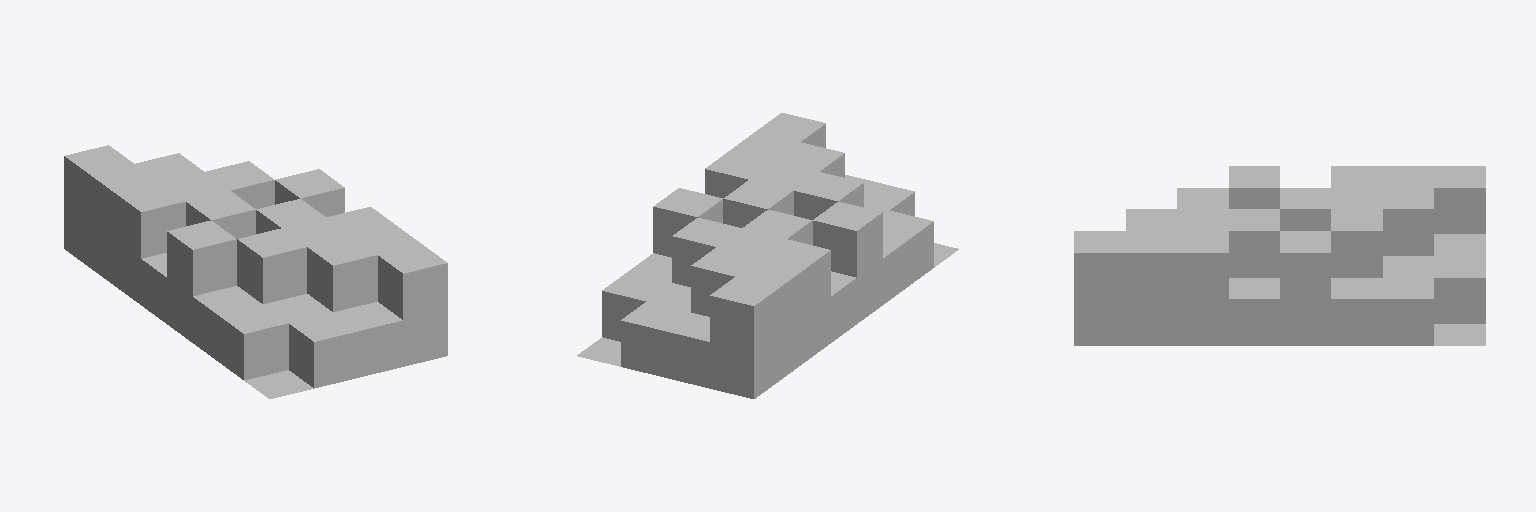
3 views of the same model, side by side, from view 1: azimuth 30°, elevation 25°; view 2: azimuth 150°, elevation 25°; view 3: azimuth 270°, elevation 25° (orthographic).
Visible parts, largest first — view 1: Object(4,8)[length_2], Object(1,5)[length_2], Object(1,3)[length_2], Object(1,7)[length_1], Object(3,7)[length_2], Object(2,6)[length_2], Object(2,8)[length_1], Object(1,1)[length_2], Object(1,2)[length_2], Object(3,8)[length_1], Object(1,6)[length_1], Object(2,4)[length_2] (+11 smaller); view 2: Object(1,1)[length_2], Object(1,5)[length_2], Object(1,2)[length_2], Object(1,3)[length_2], Object(3,1)[length_1], Object(2,1)[length_1], Object(4,4)[length_2], Object(3,3)[length_2], Object(2,2)[length_2], Object(4,2)[length_1], Object(3,5)[length_2], Object(2,6)[length_2] (+14 smaller); view 3: Object(4,6)[length_2], Object(4,8)[length_2], Object(4,4)[length_2], Object(4,7)[length_2], Object(3,3)[length_2], Object(1,1)[length_2], Object(3,1)[length_1], Object(4,3)[length_1], Object(3,5)[length_2], Object(2,2)[length_2], Object(4,2)[length_1], Object(4,5)[length_1] (+11 smaller).
Part boxes in pixels (x1,y1,x2,y2): Object(4,8)[length_2]: (378,244,447,366); Object(1,5)[length_2]: (167,220,236,342); Object(1,3)[length_2]: (116,183,185,304); Object(1,7)[length_1]: (218,305,288,380); Object(3,7)[length_2]: (307,236,377,311); Object(2,6)[length_2]: (237,228,306,303); Object(2,8)[length_1]: (289,313,358,388); Object(1,1)[length_2]: (64,145,133,267); Object(1,2)[length_2]: (90,164,159,286); Object(3,8)[length_1]: (333,302,402,377); Object(1,6)[length_1]: (193,286,262,360); Object(2,4)[length_2]: (186,191,255,238); Object(1,1)[length_2]: (710,277,779,398); Object(1,5)[length_2]: (813,202,882,323); Object(1,2)[length_2]: (736,258,805,379); Object(1,3)[length_2]: (762,239,830,360); Object(3,1)[length_1]: (621,302,690,377); Object(2,1)[length_1]: (665,313,709,388); Object(4,4)[length_2]: (653,188,722,257); Object(3,3)[length_2]: (672,218,741,286); Object(2,2)[length_2]: (691,247,759,316); Object(4,2)[length_1]: (602,272,670,341); Object(3,5)[length_2]: (723,180,793,227); Object(2,6)[length_2]: (794,172,863,219); Object(4,6)[length_2]: (1177,231,1228,345); Object(4,8)[length_2]: (1074,231,1125,345); Object(4,4)[length_2]: (1280,231,1330,345); Object(4,7)[length_2]: (1126,231,1176,345); Object(3,3)[length_2]: (1331,209,1382,277); Object(1,1)[length_2]: (1434,166,1485,233); Object(3,1)[length_1]: (1434,256,1485,323); Object(4,3)[length_1]: (1331,278,1382,345); Object(3,5)[length_2]: (1229,209,1279,277); Object(2,2)[length_2]: (1383,188,1433,255); Object(4,2)[length_1]: (1383,278,1433,345); Object(4,5)[length_1]: (1229,278,1279,345).
Bounding box in the file's own units: 4 × 2 × 8.